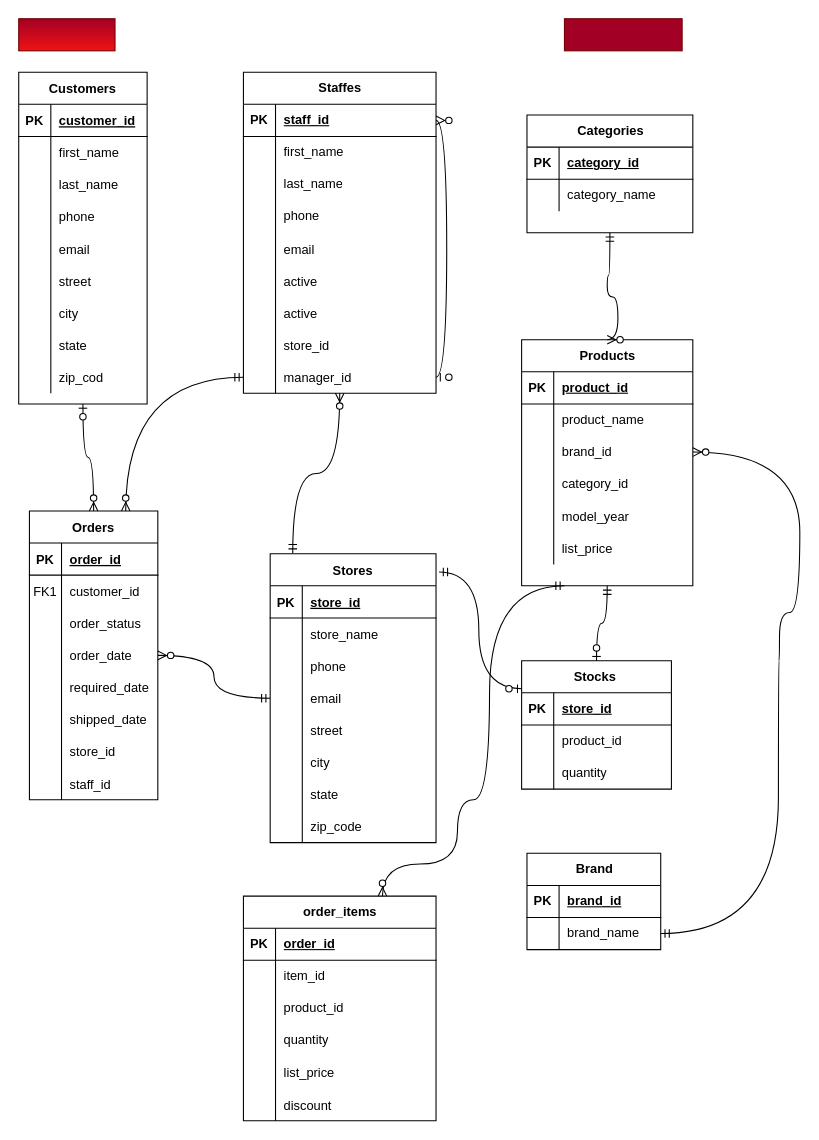
Image size: 819x1140. Some labels were removed from this diagram. The centre of each missing label's shape, as x and y in pixels:
Production: pixel 622 34
Sales: pixel 66 34
